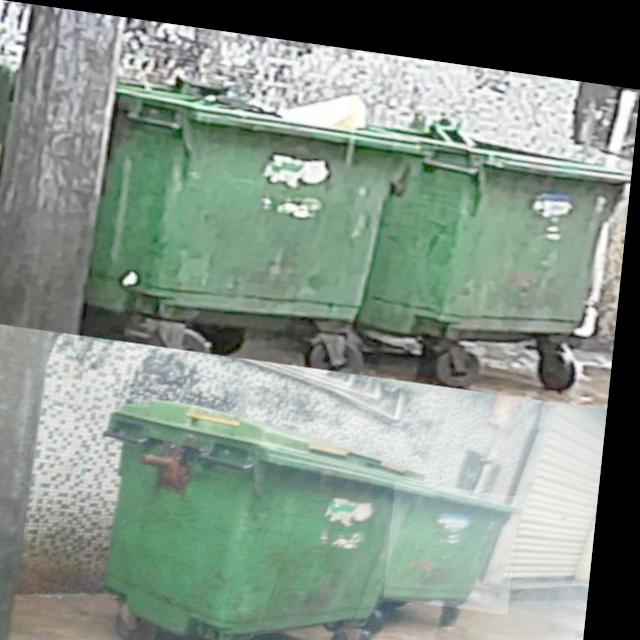garbage_bin: (97, 388, 449, 640), (363, 99, 634, 342), (395, 467, 529, 598)
overflow: (92, 55, 425, 336)
